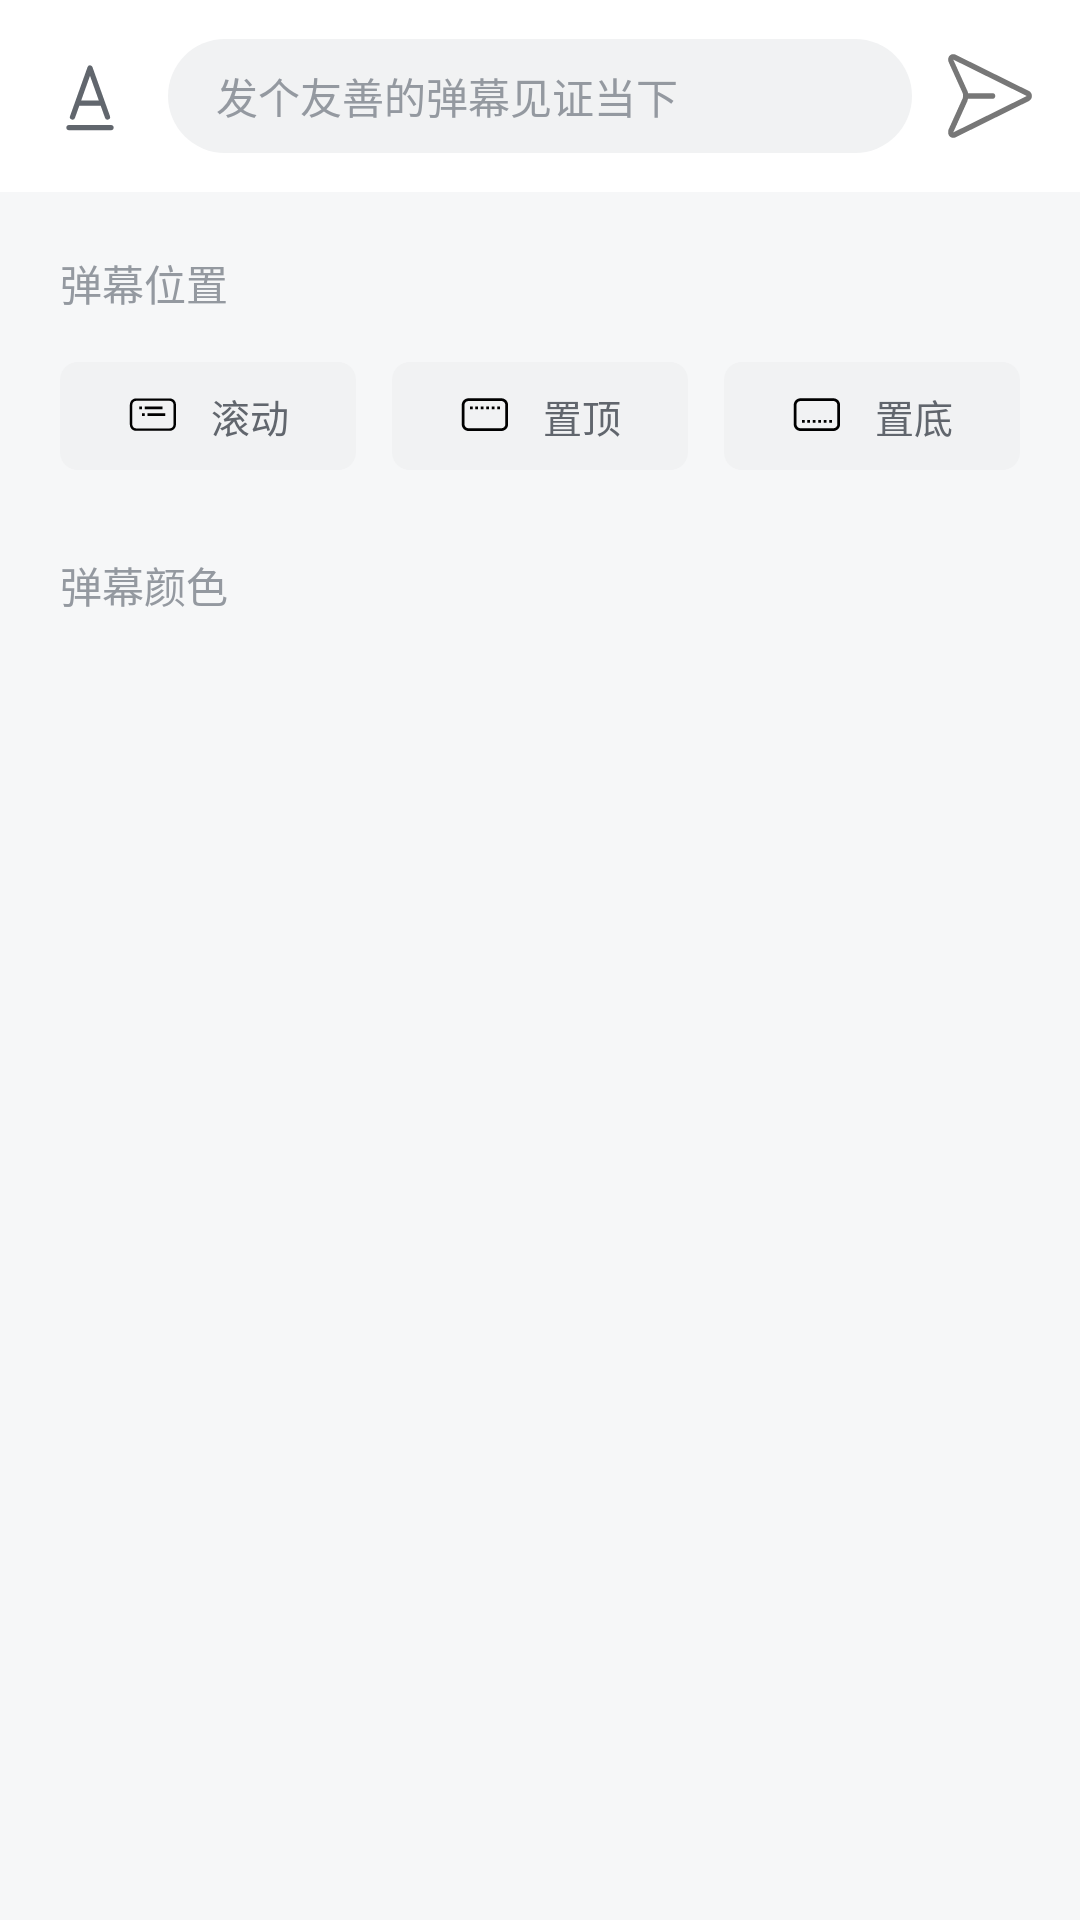

Icons on this 1080×1920 Android screen, each with the point to tap as (x=x, y=y):
danmu bottom: (x=816, y=414)
danmu scroll: (x=152, y=414)
danmu send: (x=990, y=96)
danmu style: (x=90, y=98)
danmu top: (x=484, y=414)
